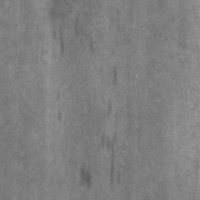inclusion: (97, 128, 126, 186), (49, 12, 85, 57), (75, 160, 97, 192), (106, 59, 123, 91)
